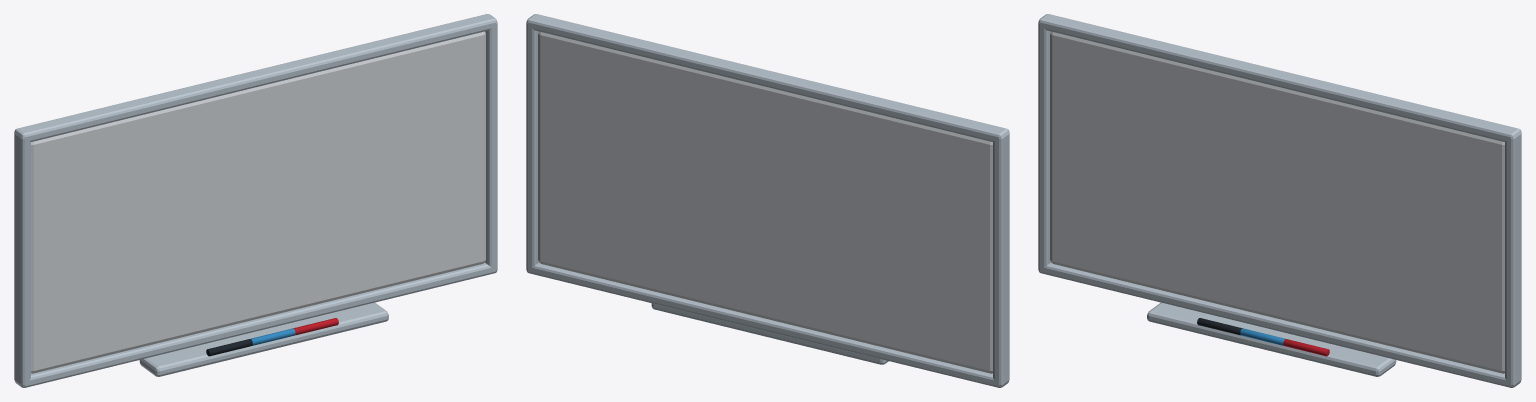
File: whiteboard.glb
3 views of the same model, side by side, from view 1: azimuth 30°, elevation 25°; view 2: azimuth 150°, elevation 25°; view 3: azimuth 330°, elevation 25° (orthographic).
Parts seen in each view (by area): view 1: whiteboard · Warm white, whiteboard · Brushed aluminum; view 2: whiteboard · Warm white, whiteboard · Brushed aluminum; view 3: whiteboard · Warm white, whiteboard · Brushed aluminum.
Boxes of the visible parts, x1=… form: whiteboard · Warm white: x1=31, y1=31, x2=485, y2=373; whiteboard · Brushed aluminum: x1=14, y1=14, x2=497, y2=387; whiteboard · Warm white: x1=538, y1=31, x2=992, y2=373; whiteboard · Brushed aluminum: x1=526, y1=14, x2=1009, y2=387; whiteboard · Warm white: x1=1050, y1=31, x2=1504, y2=373; whiteboard · Brushed aluminum: x1=1038, y1=14, x2=1521, y2=387.
Size of the model in its own units: 2.65 by 1.4 by 0.223.
